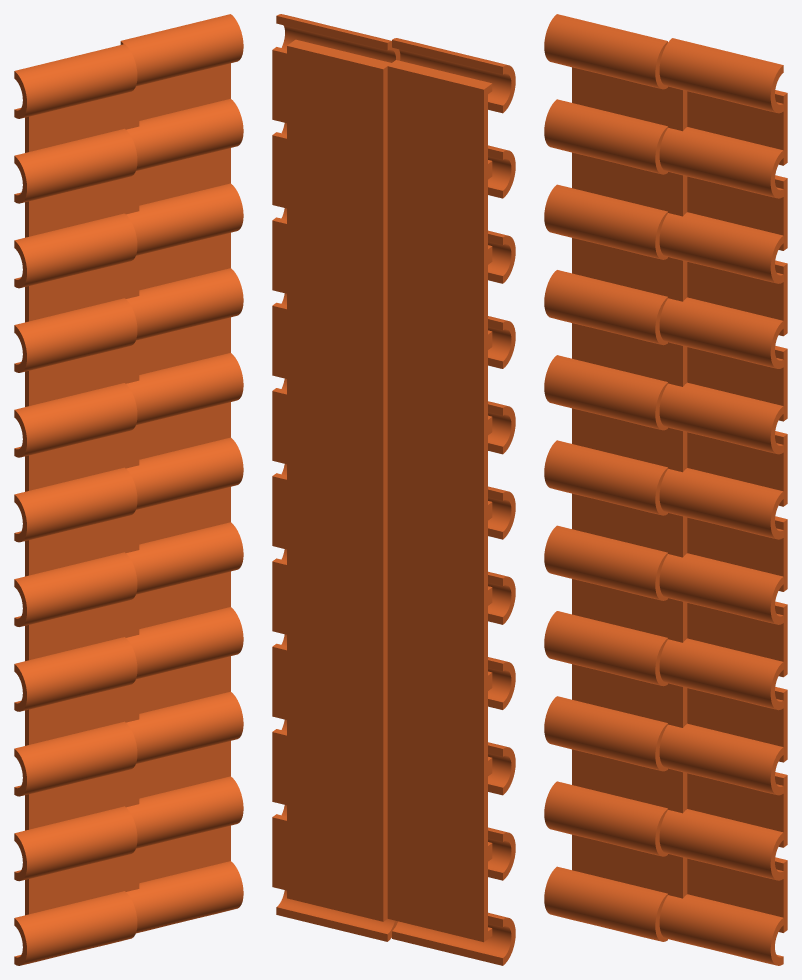
File: PanCoverModel.fbx
The picture shows the model from 3 angles, left to right: view 1: azimuth 30°, elevation 25°; view 2: azimuth 150°, elevation 25°; view 3: azimuth 330°, elevation 25°; orthographic projection.
Visible parts, largest first — view 1: Object_25, Object_32, Object_24, Object_26, Object_28, Object_31, Object_29, Object_16, Object_22, Object_30, Object_27, Object_6 (+30 smaller); view 2: Object_37, Object_35, Object_36, Object_38, Object_33, Object_34, Object_39, Object_41, Object_42, Object_40, Object_23, Object_12 (+21 smaller); view 3: Object_6, Object_28, Object_2, Object_5, Object_11, Object_1, Object_3, Object_8, Object_22, Object_29, Object_31, Object_10 (+30 smaller).
Boxes of the visible parts, box(x1,y1,x2,y2) form: Object_25: box(14, 806, 137, 881); Object_32: box(14, 467, 137, 542); Object_24: box(14, 891, 137, 965); Object_26: box(14, 721, 137, 796); Object_28: box(14, 44, 137, 118); Object_31: box(14, 383, 137, 457); Object_29: box(14, 213, 137, 288); Object_16: box(14, 552, 137, 626); Object_22: box(14, 128, 137, 203); Object_30: box(14, 298, 137, 372); Object_27: box(14, 637, 137, 711); Object_6: box(120, 14, 243, 86); Object_37: box(272, 39, 391, 154); Object_35: box(272, 472, 387, 580); Object_36: box(272, 216, 387, 324); Object_38: box(272, 131, 387, 239); Object_33: box(272, 387, 387, 495); Object_34: box(272, 301, 387, 410); Object_39: box(272, 728, 387, 836); Object_41: box(272, 642, 387, 751); Object_42: box(272, 813, 387, 921); Object_40: box(272, 557, 387, 665); Object_23: box(387, 60, 492, 174); Object_12: box(387, 833, 492, 942); Object_6: box(659, 38, 783, 113); Object_28: box(544, 14, 667, 89); Object_2: box(659, 809, 783, 880); Object_5: box(659, 553, 783, 624); Object_11: box(659, 468, 783, 539); Object_1: box(659, 894, 783, 965); Object_3: box(659, 723, 783, 795); Object_8: box(659, 212, 783, 283); Object_22: box(544, 99, 667, 174); Object_29: box(544, 184, 667, 259); Object_31: box(544, 355, 667, 430); Object_10: box(659, 382, 783, 454).
Bounding box in the file's own units: 150 × 580 × 25.
